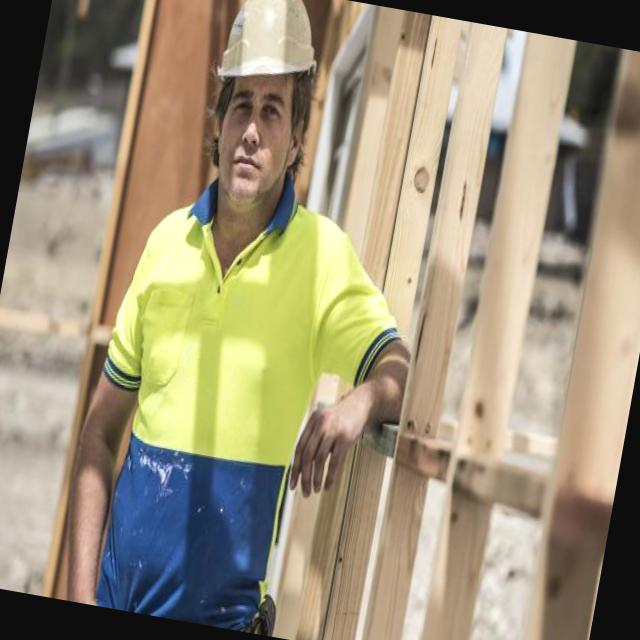helmet: (201, 0, 336, 115)
vest: (65, 163, 374, 636)
